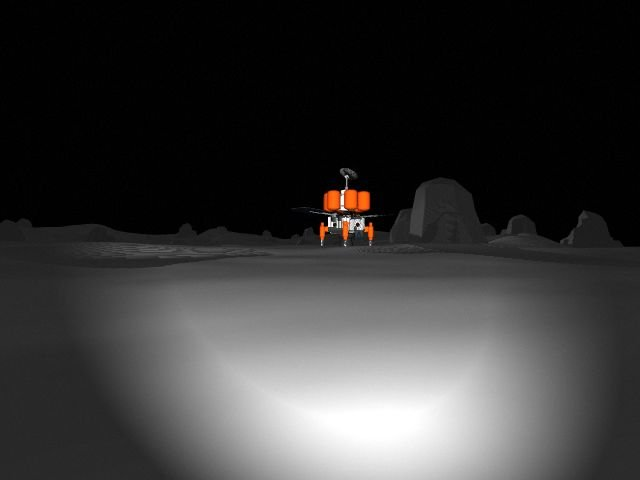homebase: (293, 164, 393, 248)
